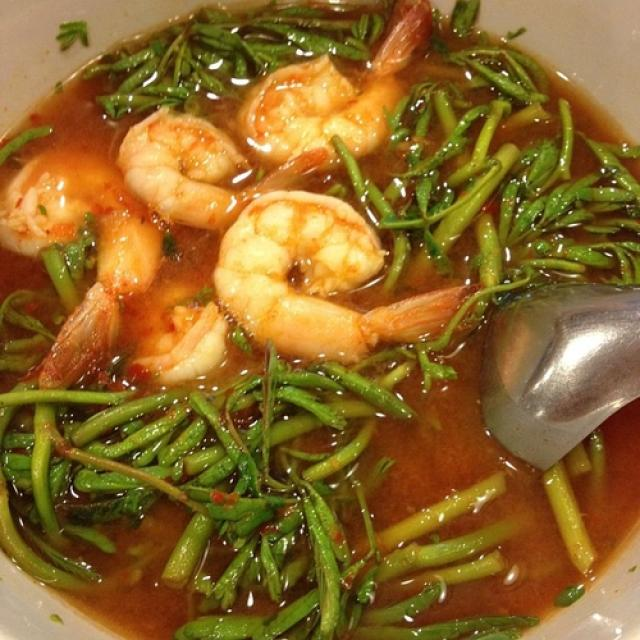汤锅炖物: (26, 18, 613, 621)
